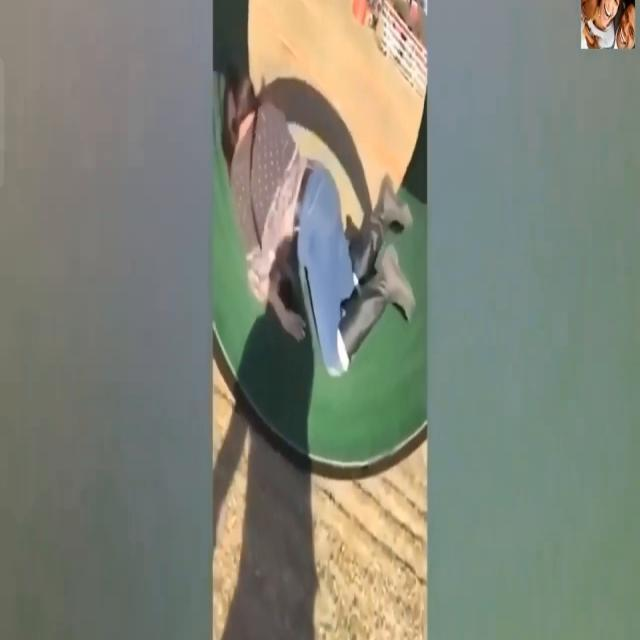fall: (224, 84, 422, 388)
